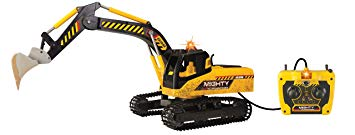backhoe: (11, 3, 254, 129)
